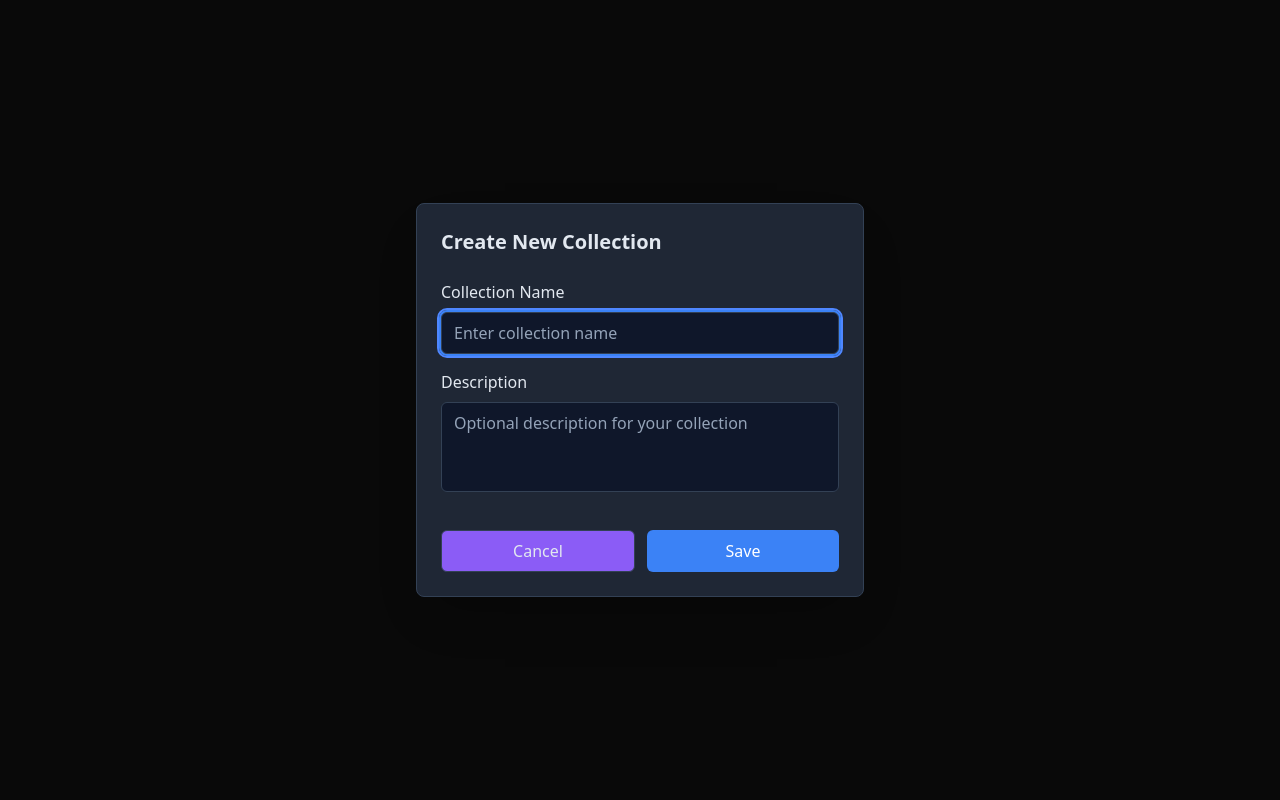
Test: CreateCollectionModal › disables Save button while submitting
Type "Test Name" into the field labelled "Collection Name" at {"x": 640, "y": 333}, box [441, 312, 839, 354]
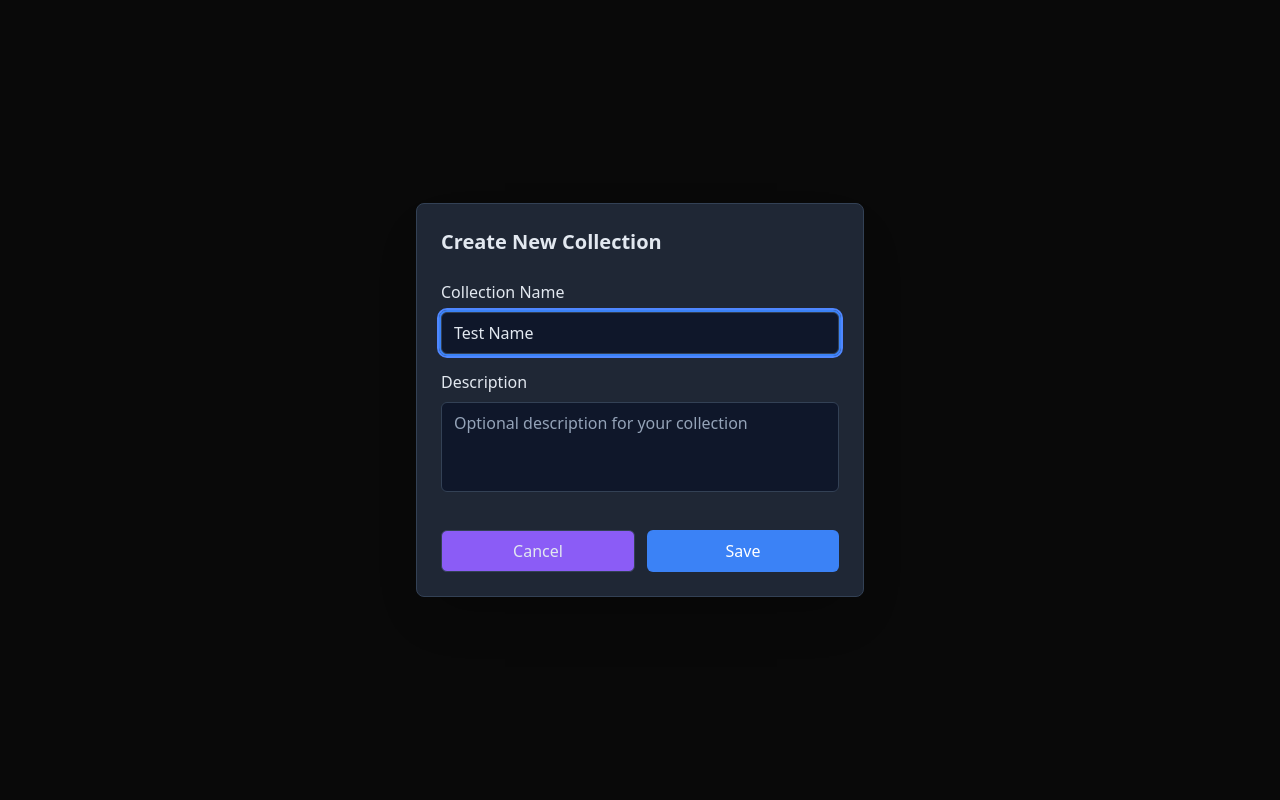
Click the button "Save" at {"x": 743, "y": 551}, box [647, 530, 839, 572]
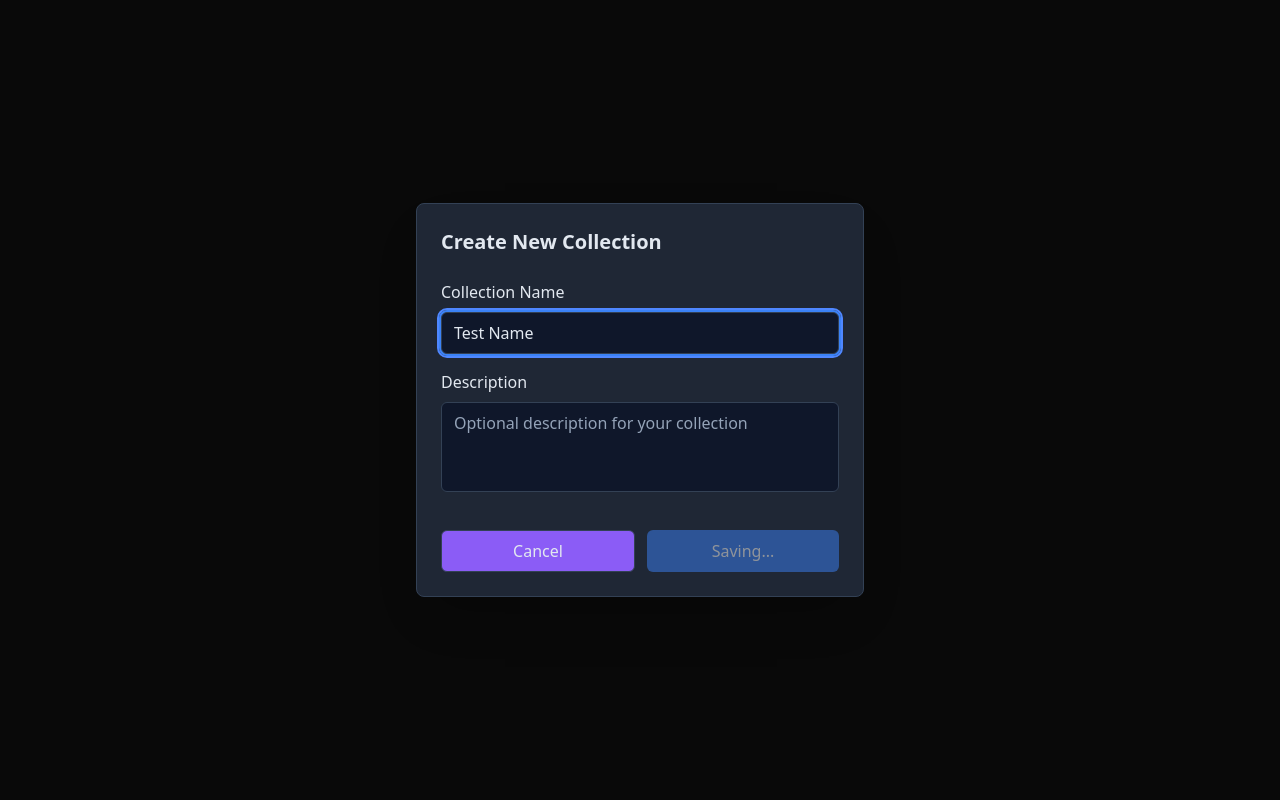
Expected: the button "save" is disabled, [647, 530, 839, 572]
